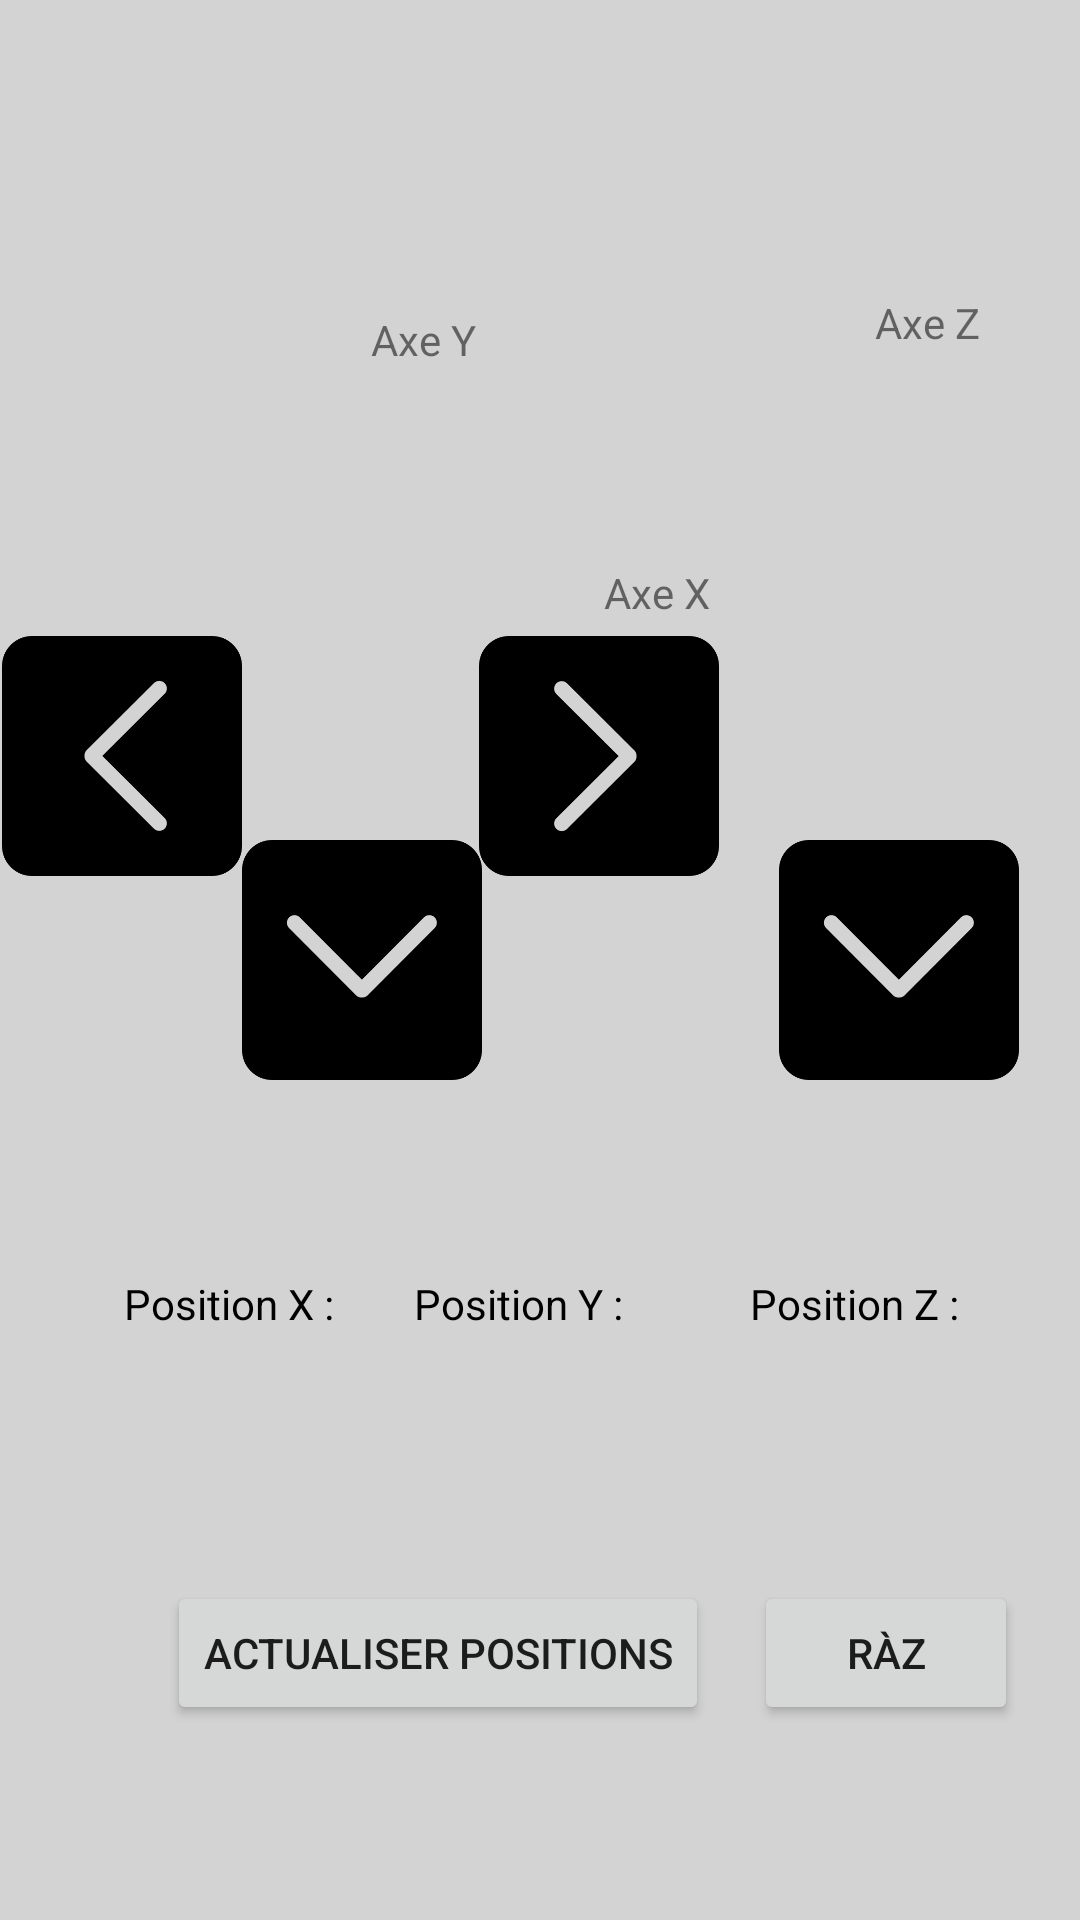

Point at icon controls on the screen. Image size 1080×1920, points as [x,y].
down: [362,960], [899,960]
left: [122,756]
right: [599,756]
